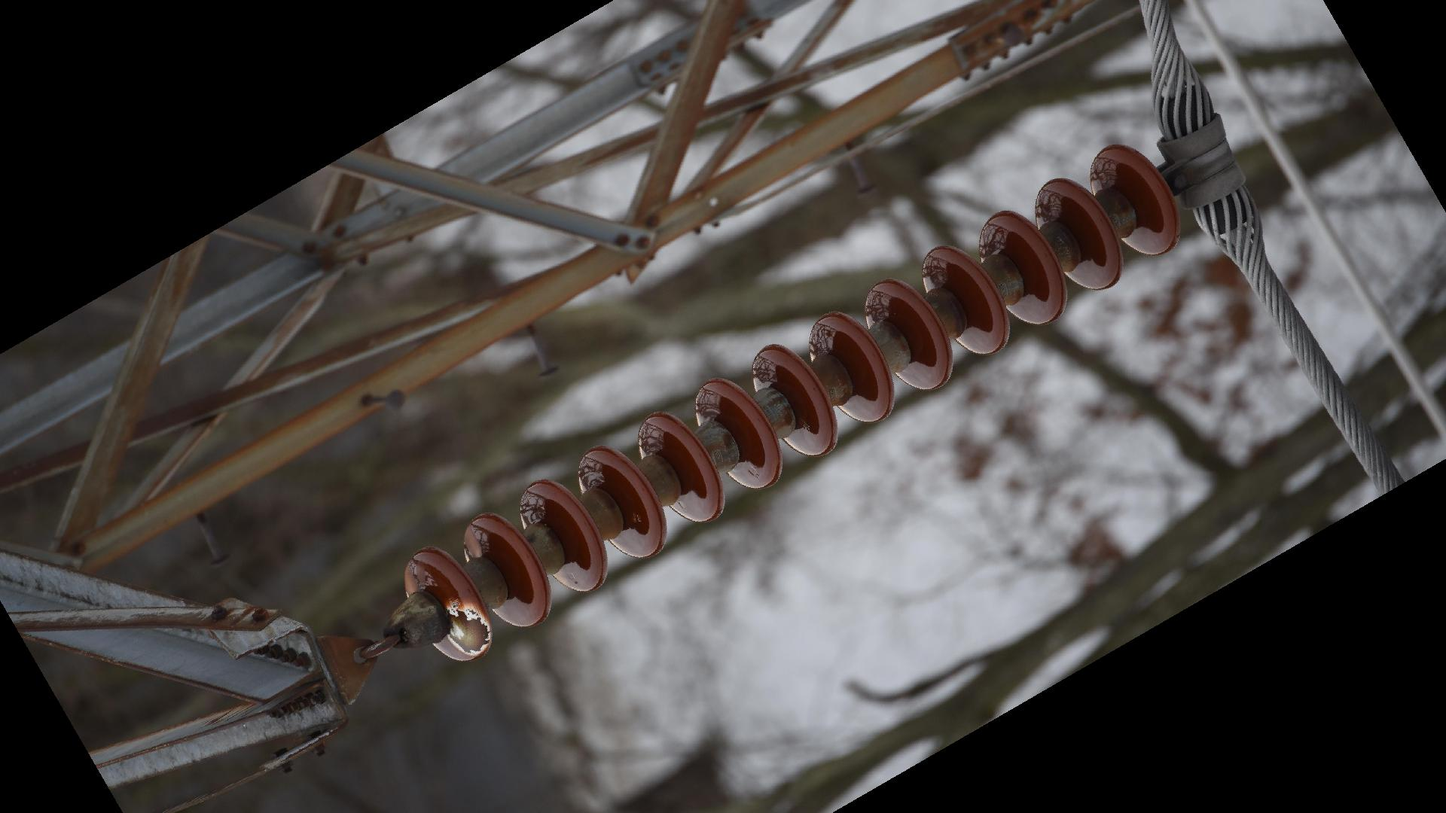insulator: (395, 137, 1188, 669)
insulator_flashover: (444, 604, 493, 659)
